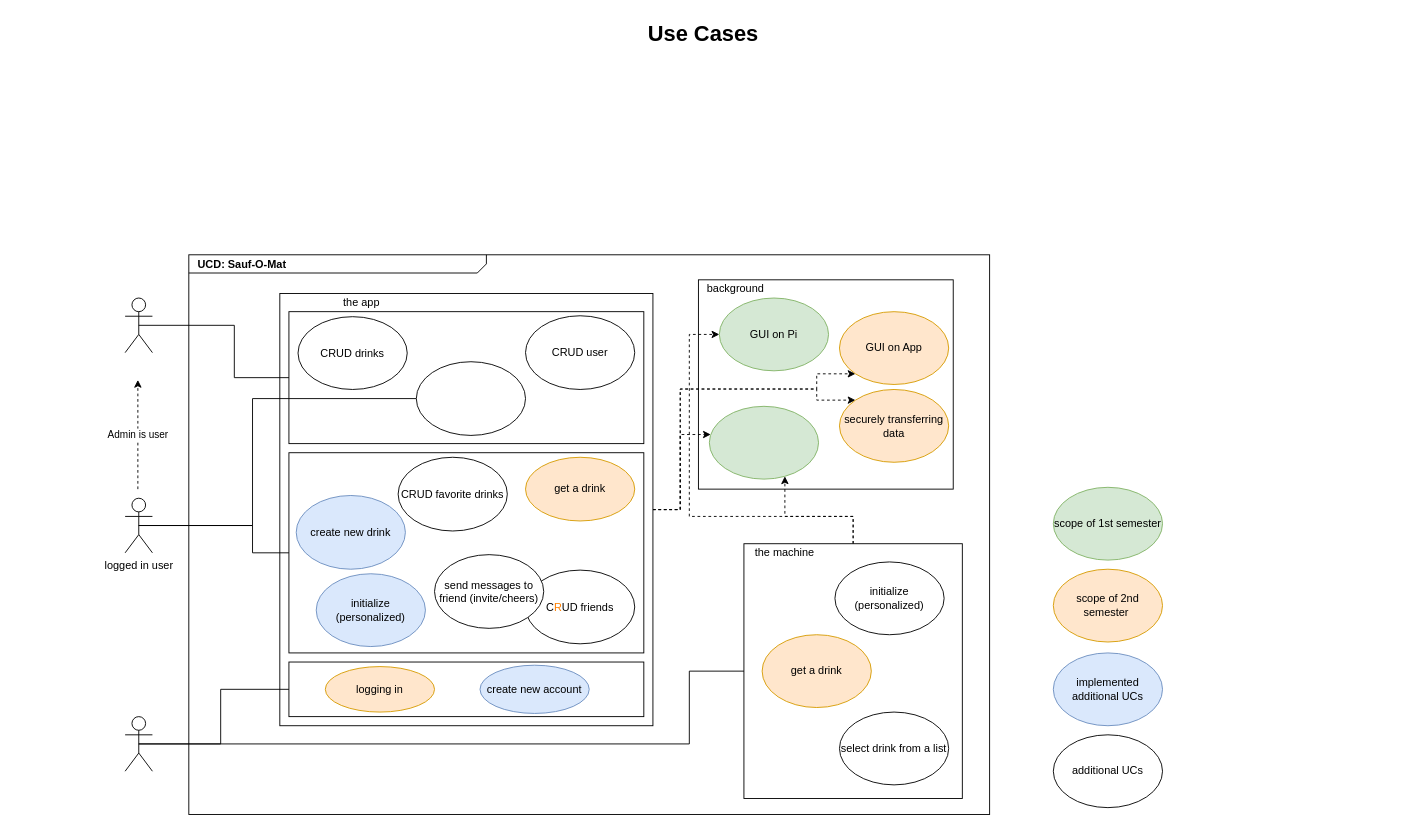
Some shapes in this 1405 by 830 pixel diagram are drawn without their labels. Here are the shapes that lost their labels. From the top down, the centre of each, then its label:
the point at 138,325: Administrator
the point at 470,398: watch statistics
the point at 763,442: database
the point at 138,743: guest user
